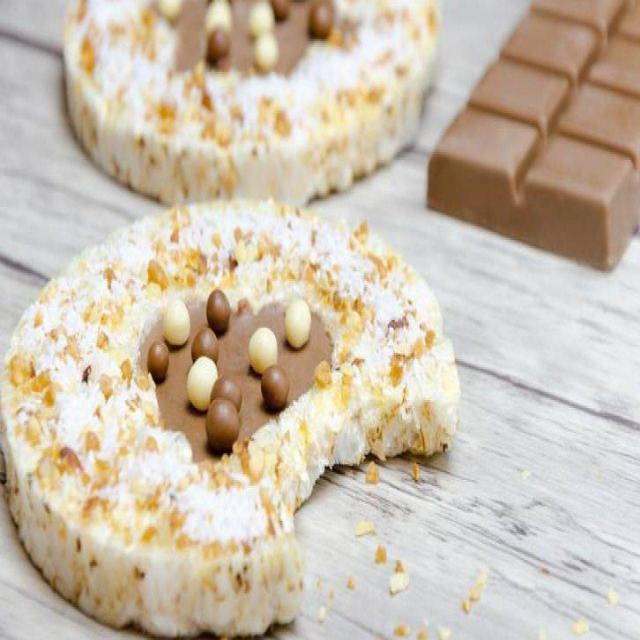Chocolate bar packaged: (426, 1, 638, 271)
